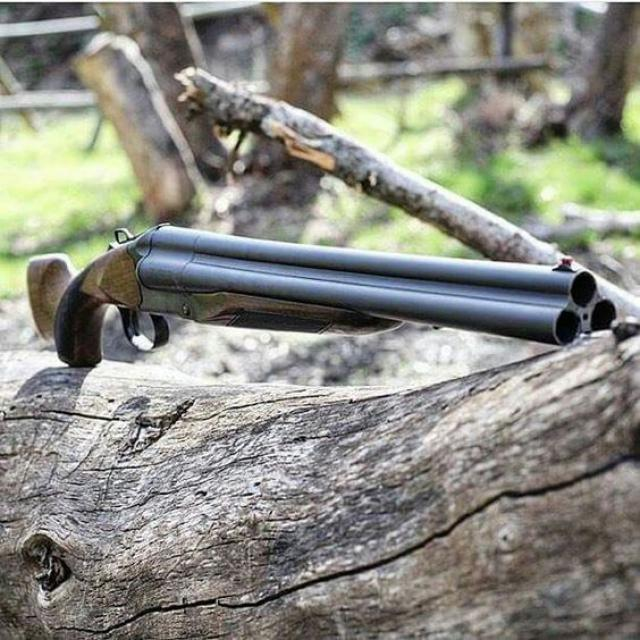shotgun: (19, 226, 619, 374)
